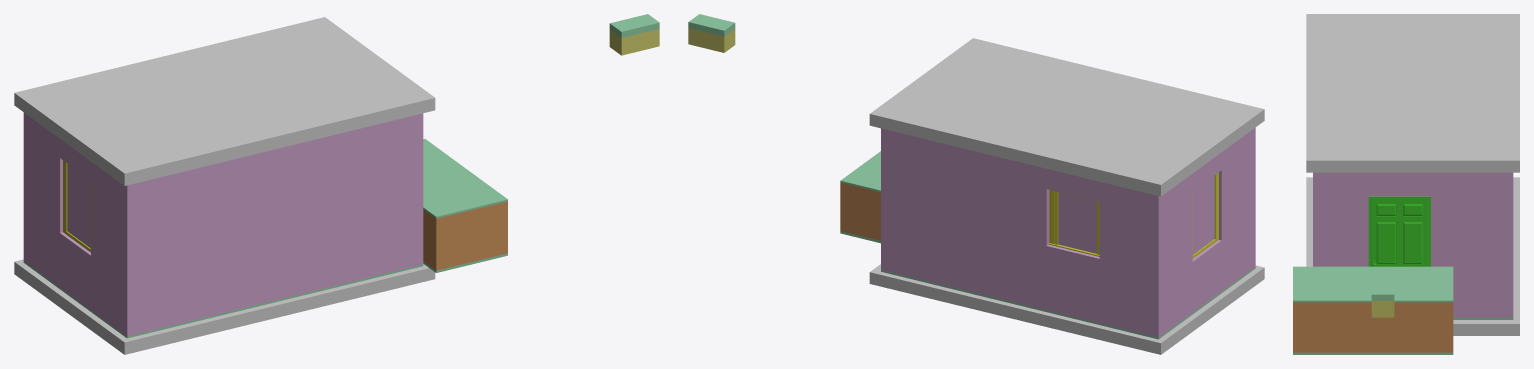
File: FloorPlan11_physics.fbx
3 views of the same model, side by side, from view 1: azimuth 30°, elevation 25°; view 2: azimuth 150°, elevation 25°; view 3: azimuth 270°, elevation 25° (orthographic). The views are drawn at different scales.
Parts seen in each view (by area): view 1: StandardWallSize, Ceiling, StandardIslandHeight1, Floor, StandardUpperCabinetWindow, StandardWindowPane1; view 2: StandardWallSize, Ceiling, Floor, StandardIslandHeight1, StandardWindowPane2, StandardUpperCabinetWindow, StandardWindowPane1, WindowTreatment1 (2); view 3: Ceiling, StandardWallSize, StandardIslandHeight1, StandardDoor1, Floor, StandardUpperCabinetWindow, StandardDoorFrame1.
Boxes of the visible parts, box(x1,y1,x2,y2) form: StandardWallSize: box(23, 112, 423, 338); Ceiling: box(14, 17, 435, 185); StandardIslandHeight1: box(423, 139, 507, 272); Floor: box(14, 259, 435, 354); StandardUpperCabinetWindow: box(609, 14, 659, 55); StandardWindowPane1: box(67, 163, 90, 247); StandardWallSize: box(881, 127, 1255, 339); Ceiling: box(869, 38, 1264, 196); Floor: box(869, 264, 1264, 354); StandardIslandHeight1: box(840, 151, 880, 243); StandardWindowPane2: box(1058, 192, 1096, 253); StandardUpperCabinetWindow: box(688, 14, 735, 52); StandardWindowPane1: box(1193, 175, 1214, 254); WindowTreatment1 (2): box(1048, 190, 1099, 256); Ceiling: box(1306, 14, 1519, 172); StandardWallSize: box(1313, 172, 1513, 319); StandardIslandHeight1: box(1293, 266, 1453, 354); StandardDoor1: box(1371, 199, 1428, 266); Floor: box(1306, 177, 1519, 335); StandardUpperCabinetWindow: box(1371, 276, 1394, 317); StandardDoorFrame1: box(1368, 196, 1430, 266).
Bounding box in the file's own units: 952 × 290 × 340.
